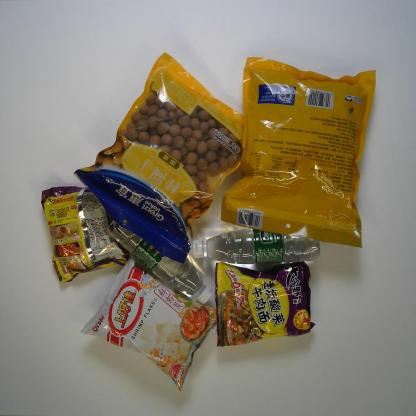Dried Food: (72, 51, 251, 263), (219, 54, 380, 250)
Drink: (106, 209, 214, 304), (190, 222, 325, 264)
Instant Noodles: (212, 257, 317, 350), (39, 183, 134, 284)
Puffed Food: (80, 255, 222, 392)
